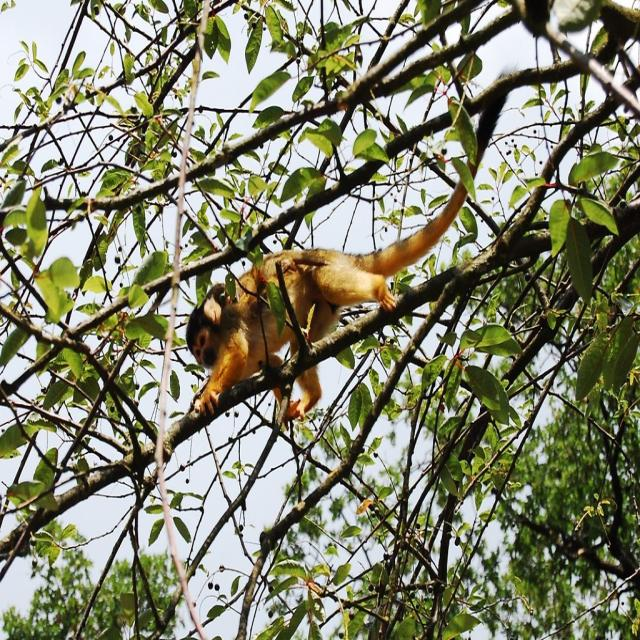Monkey: (186, 66, 514, 422)
